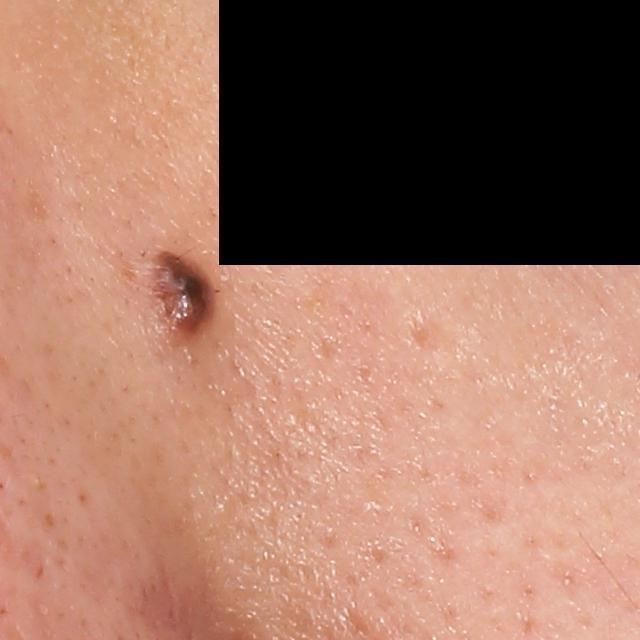nevus: (152, 243, 224, 341)
